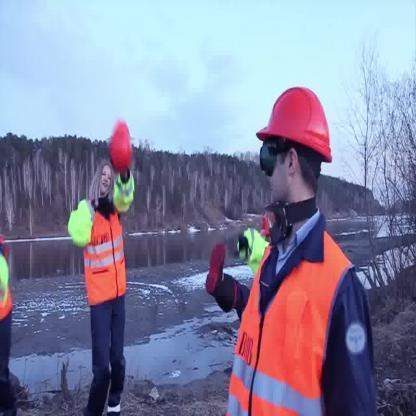helmet: (257, 84, 334, 163), (110, 120, 133, 172)
vest: (229, 227, 360, 414), (70, 160, 134, 414), (87, 202, 127, 304), (66, 196, 92, 248), (236, 224, 266, 264), (115, 172, 134, 216)
